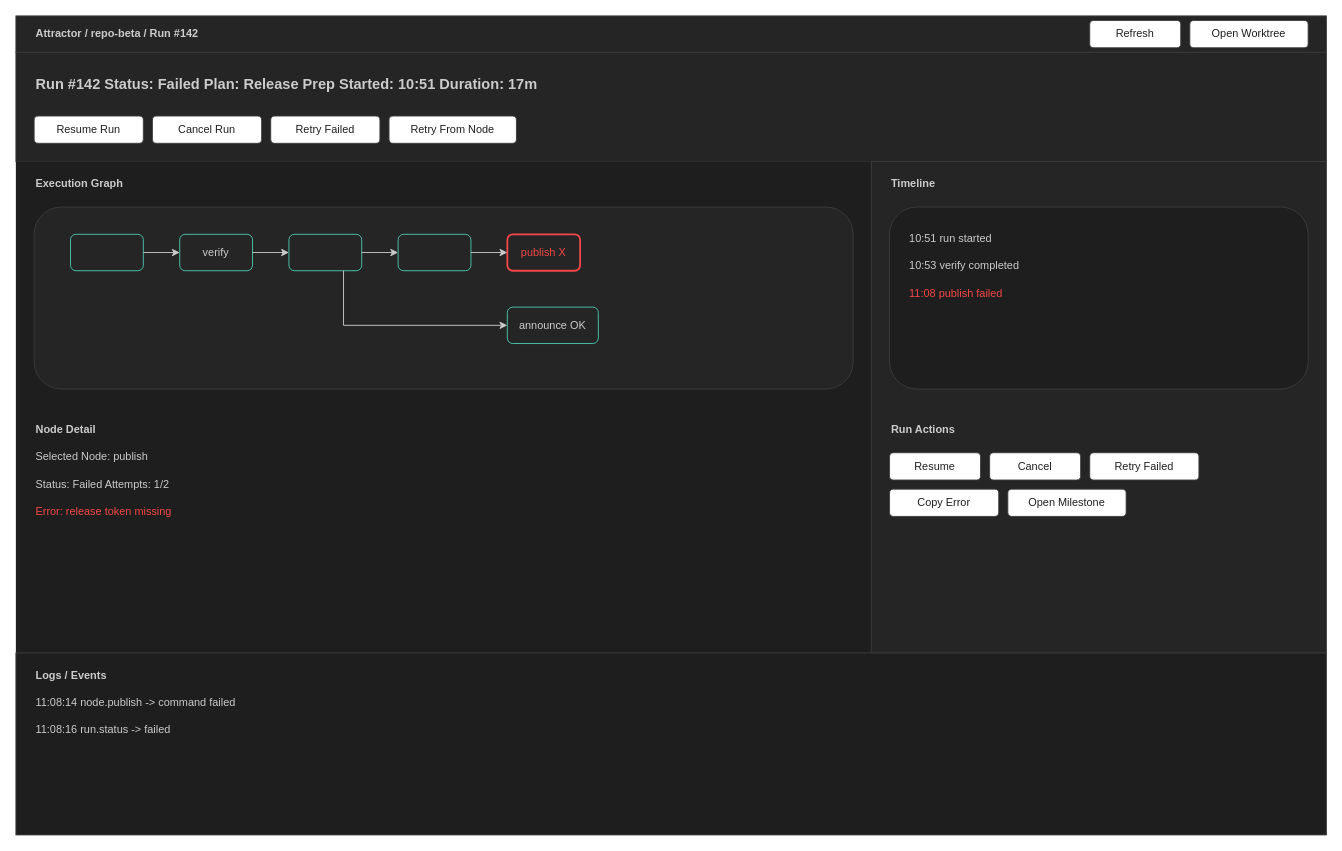
Image size: 1342x851. Some labels were removed from this diagram. The shapes that lost their labels are listed below. From the top down, each one's box as (x1, y1, x2, y2) in pixels, then its label:
(70, 233, 143, 271): start
(288, 233, 362, 271): docs
(397, 233, 471, 271): package
